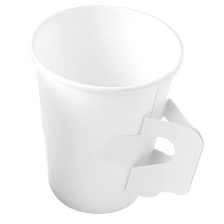paper_cup: (23, 0, 208, 218)
